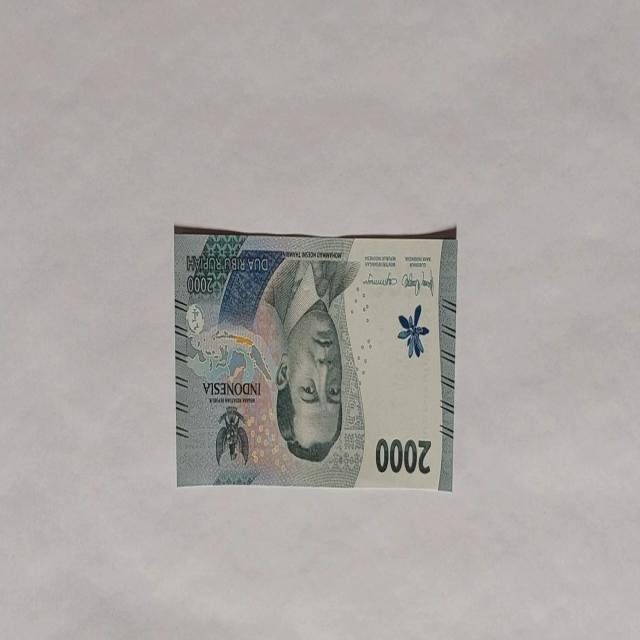dua ribu rupiah: (174, 226, 458, 492), (260, 255, 361, 465)
